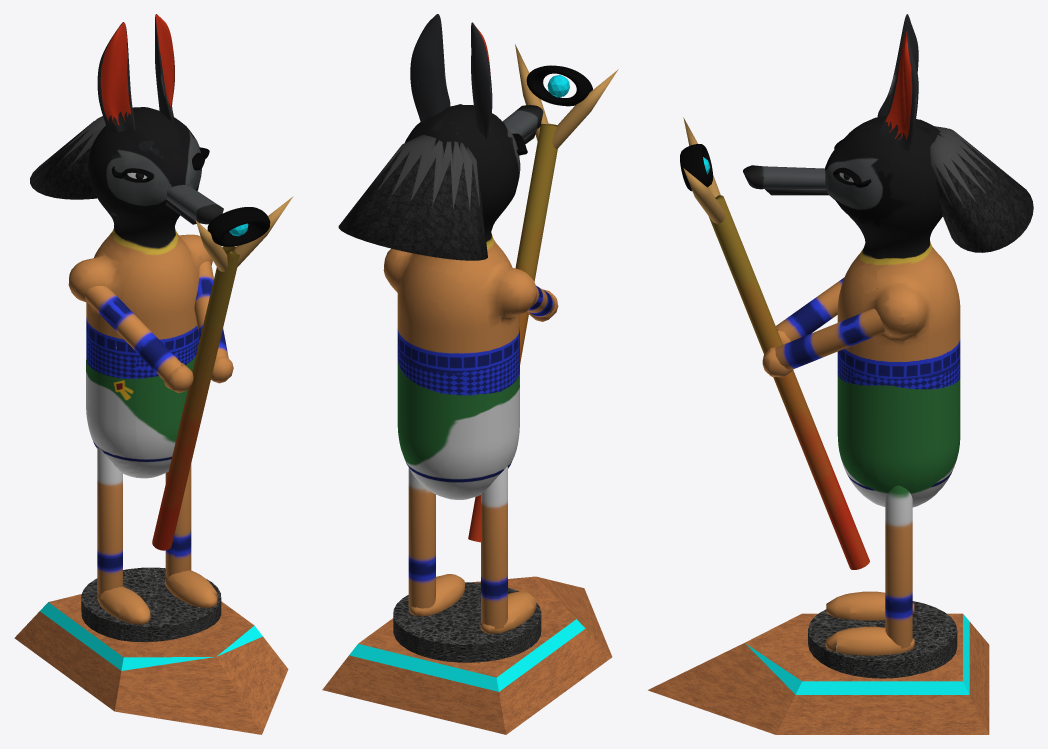
Rendered from Anubis speler.fbx.
The picture shows the model from 3 angles, left to right: view 1: azimuth 30°, elevation 25°; view 2: azimuth 150°, elevation 25°; view 3: azimuth 270°, elevation 25°; orthographic projection. The views are drawn at different scales.
Parts seen in each view (by area): view 1: Mball.000, Kubus, Cylinder.005, Cylinder, Cube.001, Cylinder.001, Kegel.001, Cylinder.003, Torus.004, Cylinder.002, Cube, Cylinder.004 (+2 smaller); view 2: Mball.000, Kubus, Kegel.001, Cylinder, Cube.001, Cylinder.001, Cylinder.005, Cylinder.002, Torus.004, Cylinder.006, Cube, Cylinder.007 (+1 smaller); view 3: Mball.000, Kubus, Kegel.001, Cylinder.005, Cylinder, Cylinder.002, Cube.001, Cylinder.004, Cube, Cylinder.003, Torus.004, Cylinder.007.
Boxes of the visible parts, x1=… form: Mball.000: x1=68, y1=107, x2=233, y2=624; Kubus: x1=14, y1=594, x2=288, y2=734; Cylinder.005: x1=152, y1=246, x2=239, y2=550; Cylinder: x1=81, y1=567, x2=221, y2=642; Cube.001: x1=97, y1=14, x2=174, y2=132; Cylinder.001: x1=97, y1=447, x2=122, y2=595; Kegel.001: x1=30, y1=116, x2=105, y2=199; Cylinder.003: x1=85, y1=286, x2=181, y2=379; Torus.004: x1=207, y1=207, x2=270, y2=246; Cylinder.002: x1=165, y1=464, x2=191, y2=576; Cube: x1=165, y1=184, x2=223, y2=224; Cylinder.004: x1=194, y1=261, x2=228, y2=357; Mball.000: x1=383, y1=104, x2=558, y2=633; Kubus: x1=322, y1=576, x2=612, y2=734; Kegel.001: x1=338, y1=134, x2=487, y2=260; Cylinder: x1=393, y1=582, x2=541, y2=662; Cube.001: x1=410, y1=14, x2=492, y2=139; Cylinder.001: x1=481, y1=466, x2=507, y2=629; Cylinder.005: x1=468, y1=123, x2=557, y2=542; Cylinder.002: x1=408, y1=468, x2=435, y2=608; Torus.004: x1=526, y1=65, x2=592, y2=106; Cylinder.006: x1=552, y1=69, x2=618, y2=148; Cube: x1=502, y1=105, x2=543, y2=143; Cylinder.007: x1=515, y1=44, x2=548, y2=140; Mball.000: x1=762, y1=116, x2=960, y2=655; Kubus: x1=648, y1=613, x2=989, y2=734; Kegel.001: x1=930, y1=126, x2=1033, y2=252; Cylinder.005: x1=708, y1=195, x2=869, y2=569; Cylinder: x1=808, y1=601, x2=957, y2=678; Cylinder.002: x1=885, y1=485, x2=912, y2=648; Cube.001: x1=877, y1=14, x2=918, y2=151; Cylinder.004: x1=775, y1=308, x2=884, y2=370; Cube: x1=743, y1=165, x2=828, y2=195; Cylinder.003: x1=776, y1=277, x2=844, y2=341; Torus.004: x1=680, y1=144, x2=713, y2=191; Cylinder.007: x1=683, y1=168, x2=724, y2=223.
Bounding box in the file's own units: 400 × 1380 × 724.
Materials: 16 (11 with a texture image).
